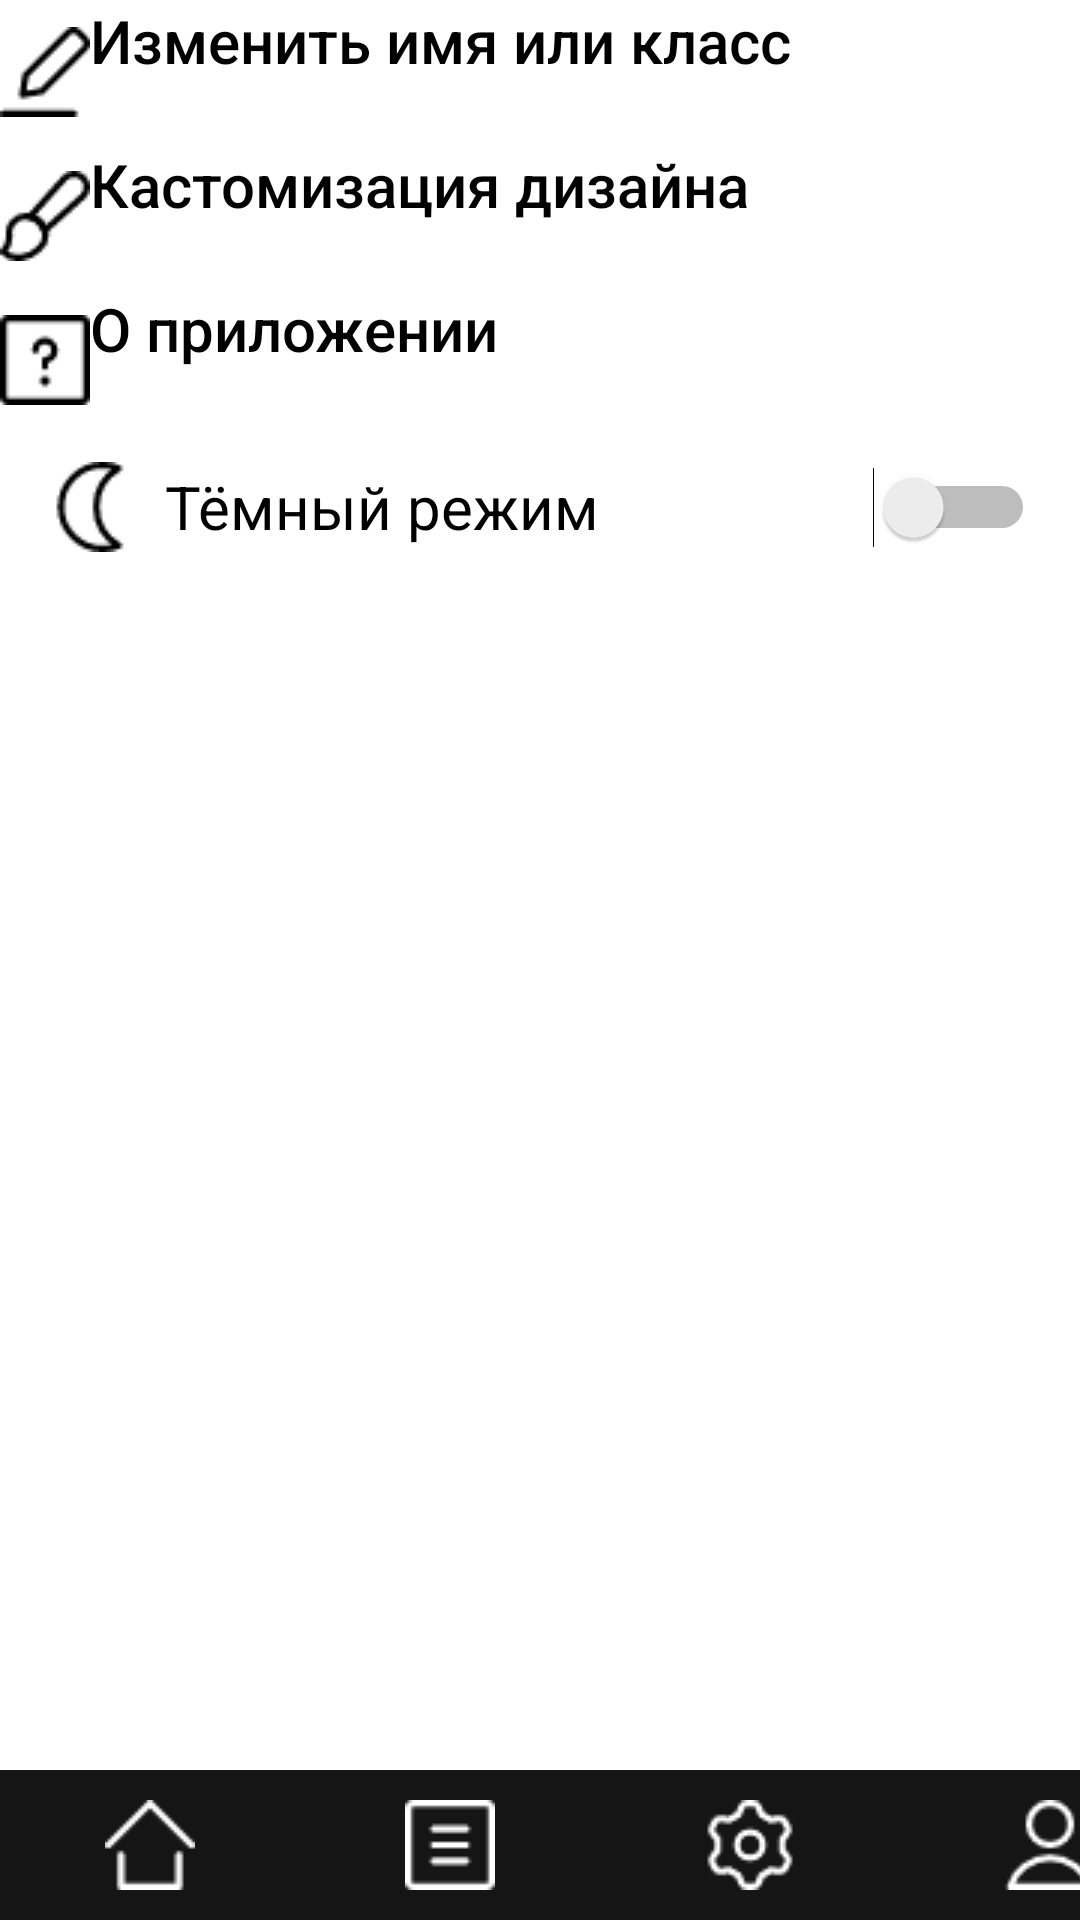

Icons on this 1080x1920 Android screen, each with the point to tap as [x,y]:
home: [150,1845]
settings: [750,1845]
timetable: [450,1845]
